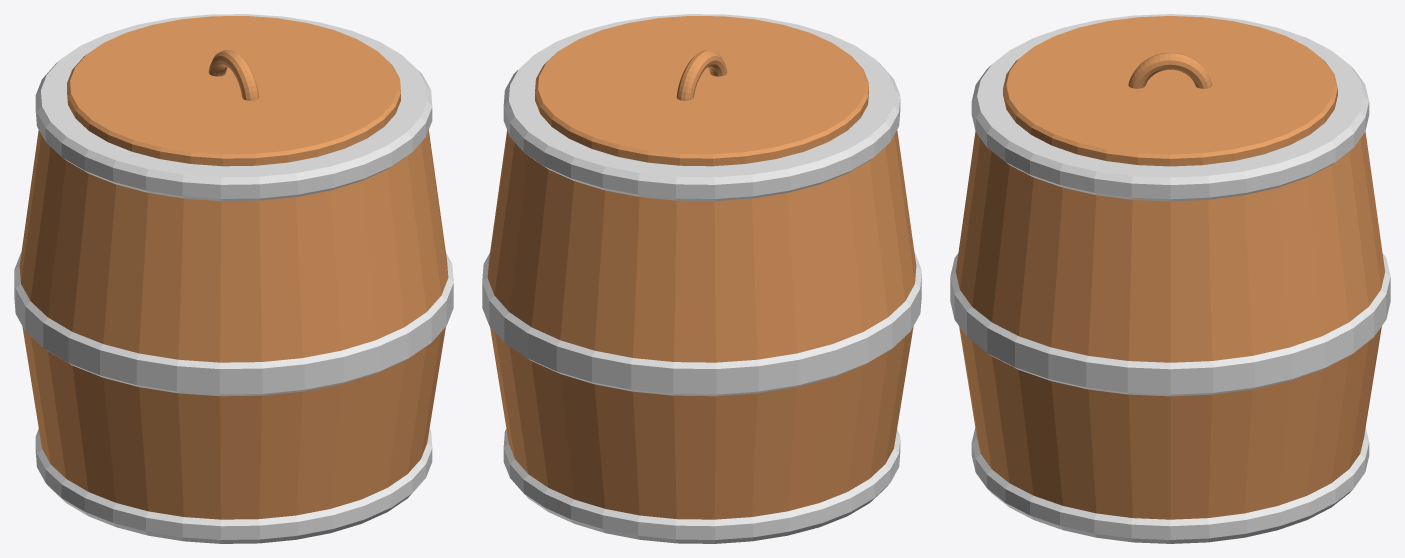
The model's file is Fass.fbx.
3 renders of one model, left to right at view 1: azimuth 30°, elevation 25°; view 2: azimuth 150°, elevation 25°; view 3: azimuth 270°, elevation 25°, orthographic.
Parts seen in each view (by area): view 1: Fass; view 2: Fass; view 3: Fass.
Part boxes in pixels (x1=…): Fass: x1=14, y1=14, x2=453, y2=543; Fass: x1=482, y1=14, x2=921, y2=543; Fass: x1=950, y1=14, x2=1390, y2=543.
Bounding box in the file's own units: 74 × 75.83 × 74.
